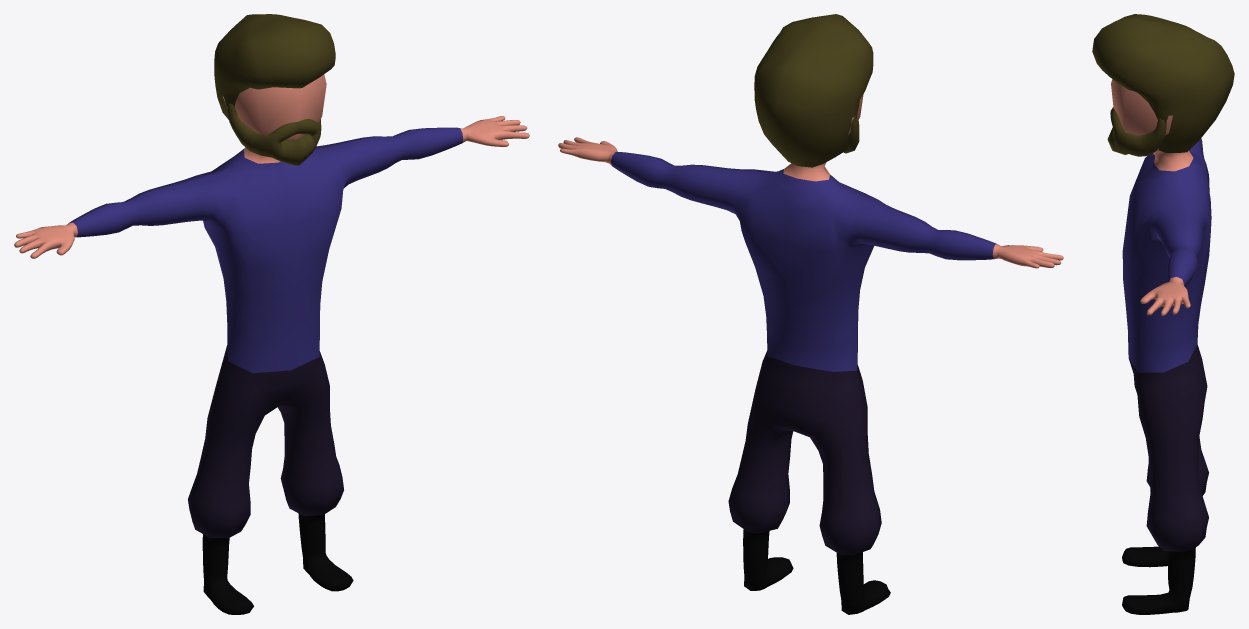
The model's file is Work1.fbx.
3 renders of one model, left to right at view 1: azimuth 30°, elevation 25°; view 2: azimuth 150°, elevation 25°; view 3: azimuth 270°, elevation 25°, orthographic. The views are drawn at different scales.
Visible parts, largest first — view 1: works1; view 2: works1; view 3: works1.
Boxes of the visible parts, x1,y1,x2,y2 form: works1: (14,14,529,614); works1: (558,14,1063,614); works1: (1092,14,1234,614).
Size of the model in its own units: 164 by 179 by 40.62.
